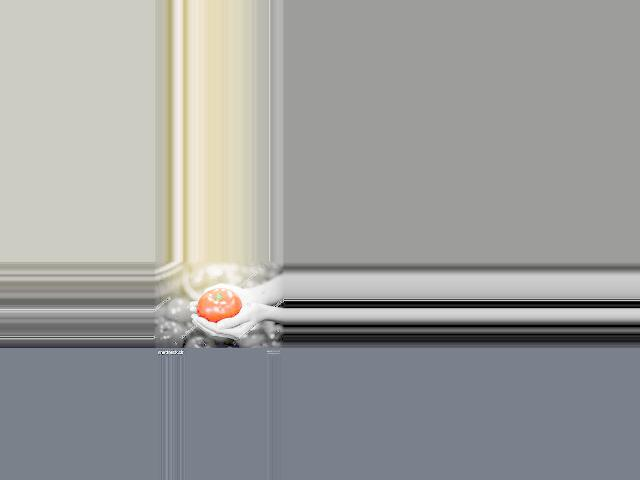tomato: (197, 288, 242, 323)
